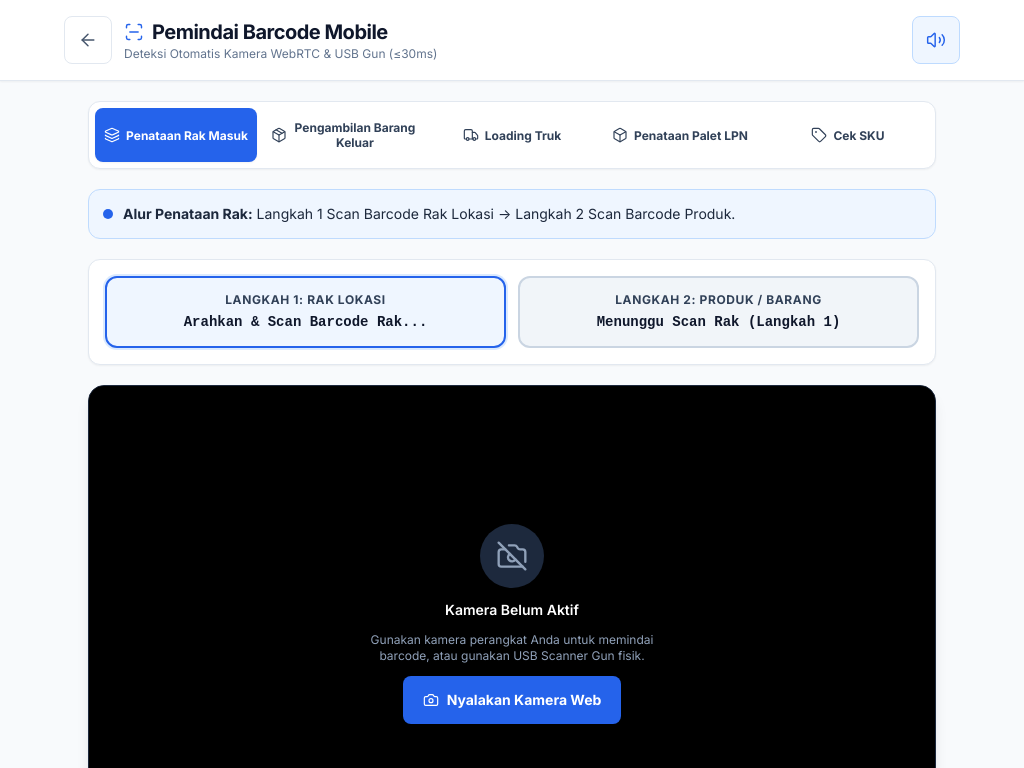
Scenario: Task 6: Barcode Scanner Truck Loading Mode › switches to LOADING_TRUCK mode and renders manifest dropdown
Click the button "Loading Truk". click: (512, 135)
box: [431,108,593,162]
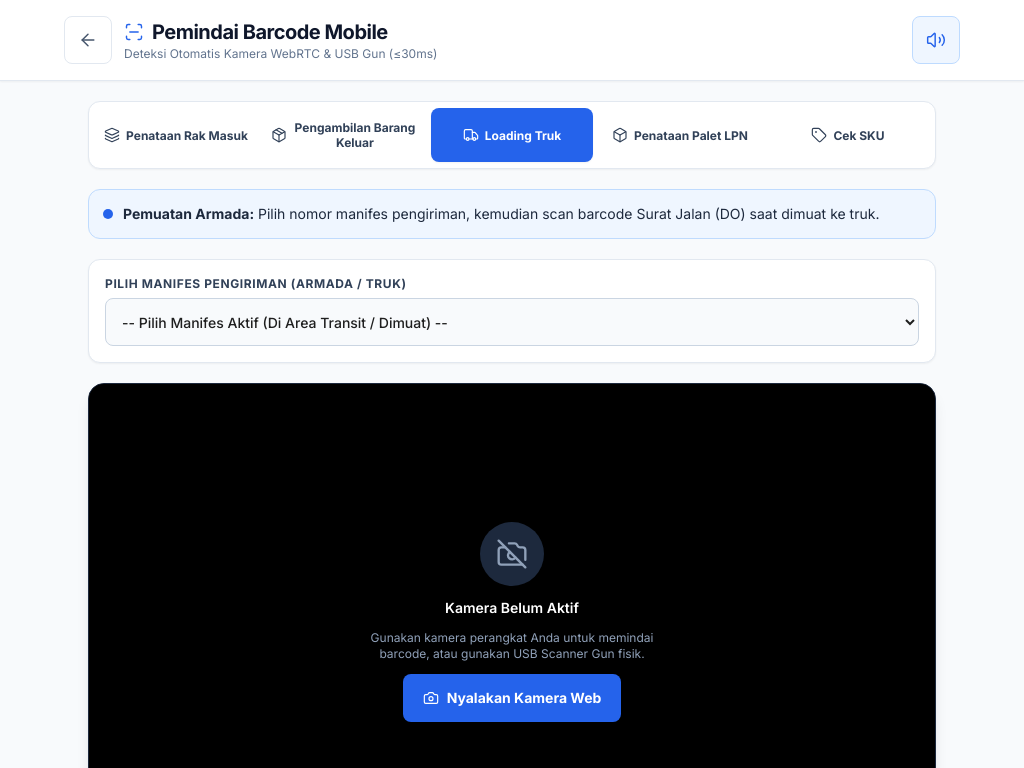
Expected: the text "Pemuatan Armada:" is shown, [123,205,254,222]
Expected: the dropdown labelled "Pilih Manifes Pengiriman (Armada / Truk)" is shown, [105,298,919,346]
